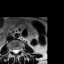CCS_normal: (14, 47, 16, 56)
LFS_normal: (19, 46, 21, 53)
LLS_normal: (16, 47, 19, 55)
RFS_normal: (10, 46, 12, 54)
RLS_normal: (12, 47, 14, 55)
